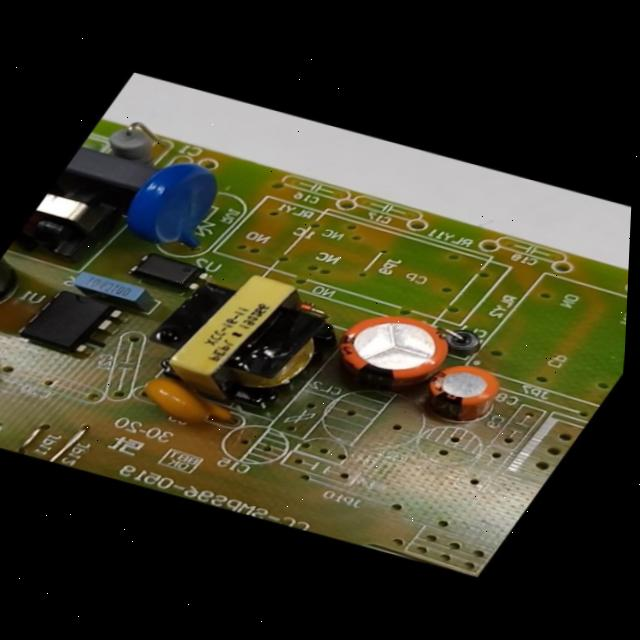Cap1: (321, 306, 462, 396)
Cap2: (412, 358, 515, 428)
MOSFET: (18, 285, 126, 356)
Mov: (111, 155, 234, 250)
Resistor: (104, 118, 170, 162)
Transformer: (129, 261, 359, 422), (16, 175, 105, 250)
